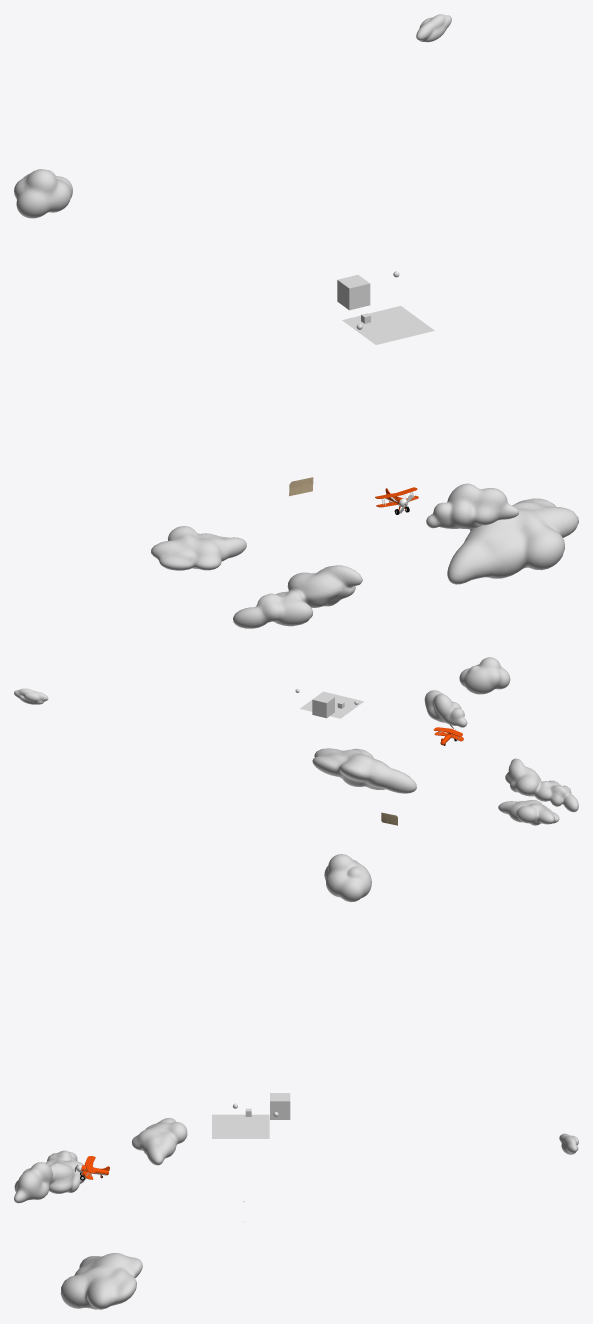
File: another1.glb
3 renders of one model, top to bottom at view 1: azimuth 30°, elevation 25°; view 2: azimuth 150°, elevation 25°; view 3: azimuth 270°, elevation 25°, orthographic. The views are drawn at different scales.
Visible parts, largest first — view 1: Cloud5_low.001, Cloud4_low, Cloud5_low, Cloud2_low, Cloud1_low, Plane, Cube; view 2: Cloud5_low.001, Cloud4_low, Cloud1_low, Cloud5_low, Cloud2_low, Plane, Cube, Cloud1_low.001, Biplane; view 3: Cloud5_low.001, Cloud1_low, Cloud5_low, Plane, Cloud4_low, Cloud2_low.
Part boxes in pixels (left/top/right/bottom): Cloud5_low.001: left=447, top=498, right=578, bottom=584; Cloud4_low: left=233, top=565, right=362, bottom=628; Cloud5_low: left=151, top=526, right=246, bottom=570; Cloud2_low: left=426, top=483, right=518, bottom=529; Cloud1_low: left=14, top=169, right=72, bottom=218; Plane: left=342, top=306, right=434, bottom=344; Cube: left=337, top=275, right=370, bottom=310; Cloud5_low.001: left=312, top=748, right=416, bottom=793; Cloud4_low: left=505, top=758, right=578, bottom=812; Cloud1_low: left=459, top=657, right=510, bottom=694; Cloud5_low: left=498, top=800, right=559, bottom=825; Cloud2_low: left=424, top=690, right=467, bottom=727; Plane: left=300, top=691, right=363, bottom=718; Cube: left=312, top=693, right=334, bottom=718; Cloud1_low.001: left=14, top=688, right=48, bottom=704; Biplane: left=433, top=727, right=463, bottom=745; Cloud5_low.001: left=60, top=1253, right=142, bottom=1309; Cloud1_low: left=324, top=854, right=371, bottom=901; Cloud5_low: left=132, top=1118, right=187, bottom=1165; Plane: left=212, top=1114, right=269, bottom=1138; Cloud4_low: left=45, top=1150, right=86, bottom=1193; Cloud2_low: left=14, top=1162, right=52, bottom=1203.
Bounding box in the file's own units: 220 × 136 × 222.
6 materials, 1 textured.
